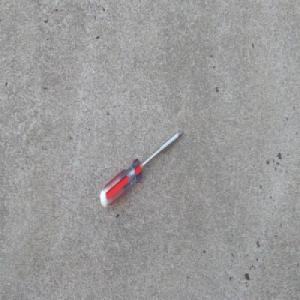Screwdriver: (99, 129, 183, 208)
